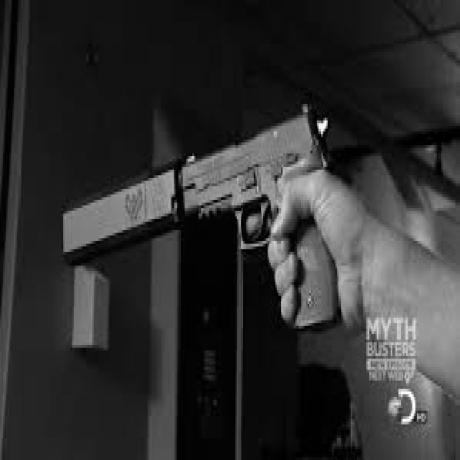Guns: (67, 107, 341, 336)
